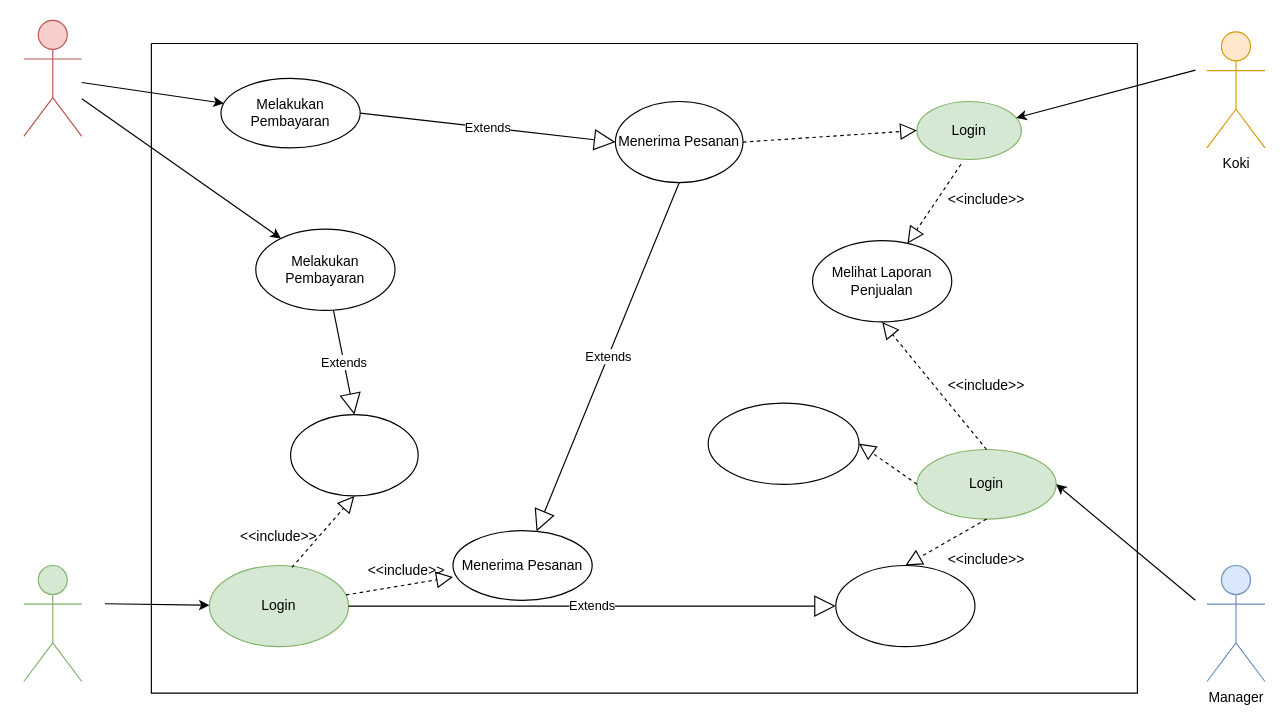
Image size: 1285x726. Some labels were removed from this diagram. Each missing label, with the centre of its shape:
Kasir: the point at 52,623
Laporan Penjualan: the point at 905,605
Menerima Pembayaran: the point at 353,455
Mengelola Data: the point at 783,443
Pelanggan: the point at 52,77
